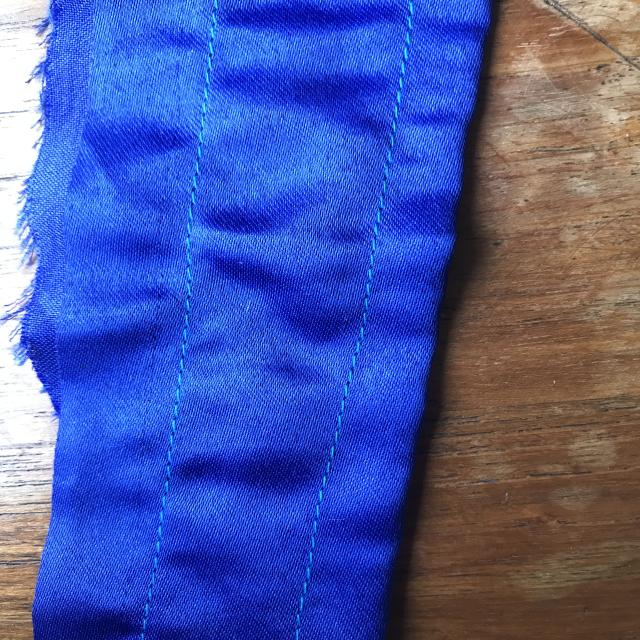good: (165, 240, 203, 418)
